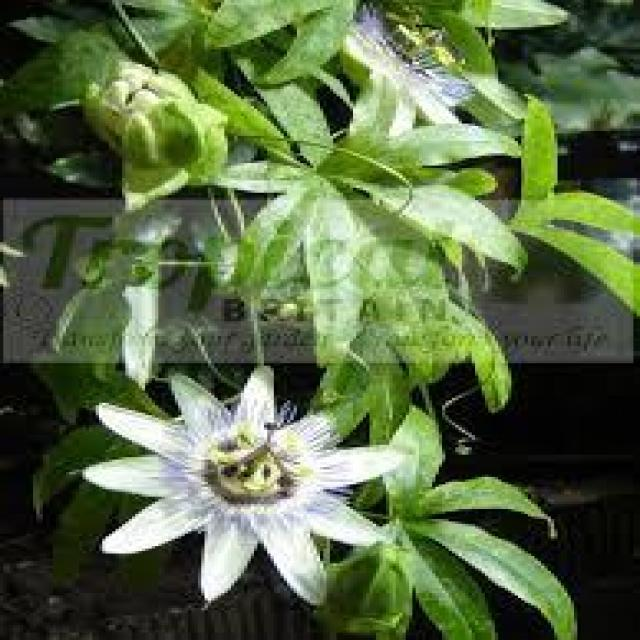organic waste: (94, 368, 411, 598)
